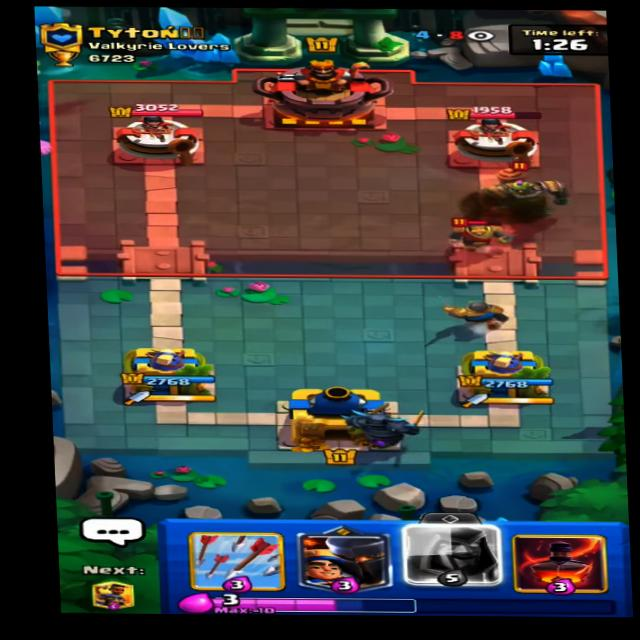goblin-machine: (475, 157, 568, 219)
knight: (435, 207, 519, 251)
